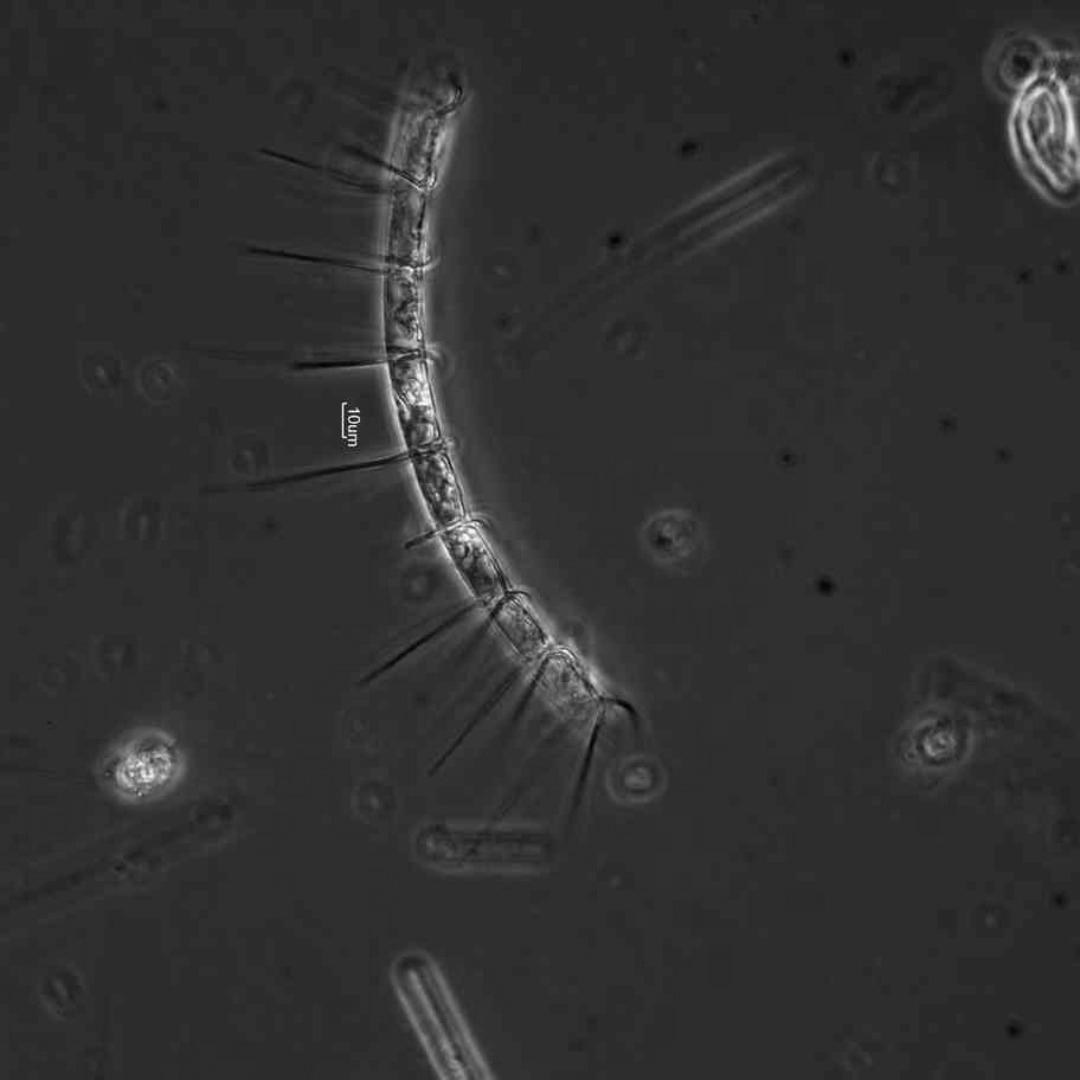chaetoceros_curvisetus: (207, 56, 642, 847)
